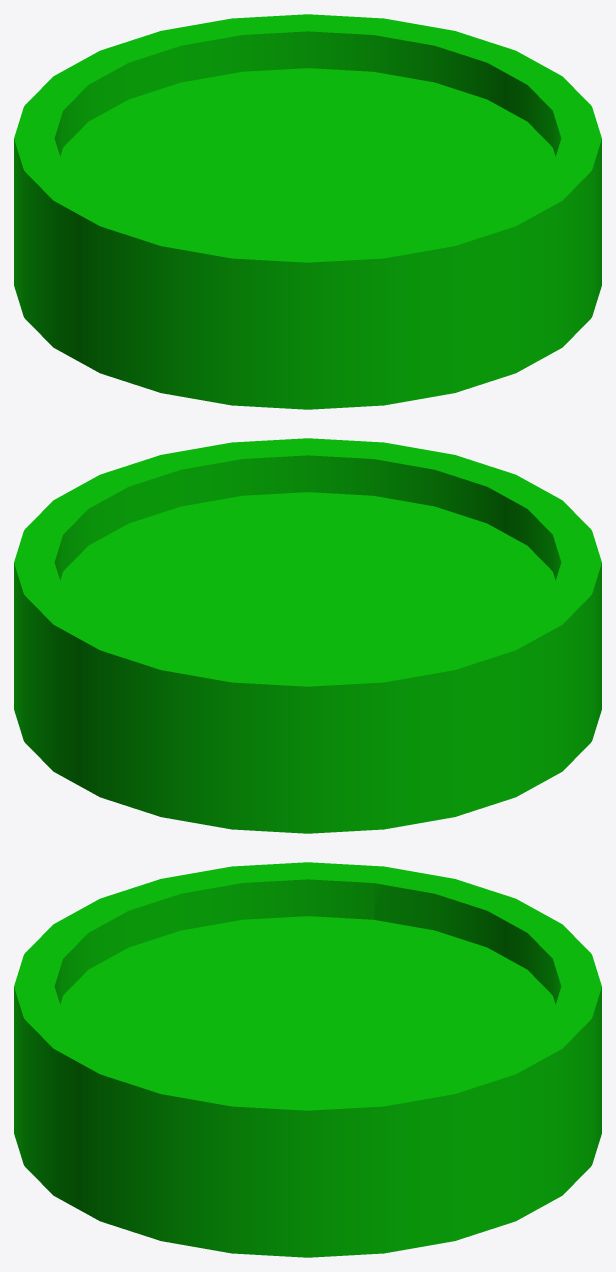
The model's file is Puck.FBX.
The picture shows the model from 3 angles, top to bottom: view 1: azimuth 30°, elevation 25°; view 2: azimuth 150°, elevation 25°; view 3: azimuth 270°, elevation 25°; orthographic projection.
Visible parts, largest first — view 1: Layer0_001; view 2: Layer0_001; view 3: Layer0_001.
Part boxes in pixels (x1,y1,x2,y2): Layer0_001: (14, 14, 601, 409); Layer0_001: (14, 438, 601, 833); Layer0_001: (14, 862, 601, 1257).
Size of the model in its own units: 92.07 by 25.4 by 92.07.
